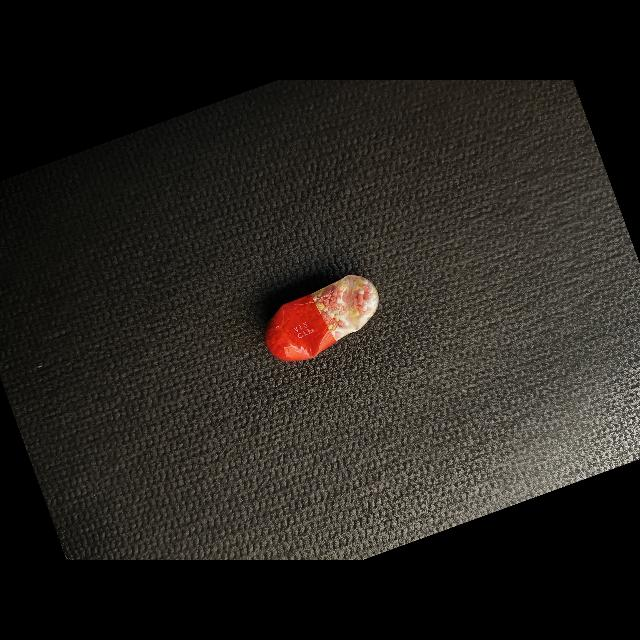Defective Capsule: (265, 275, 379, 361)
